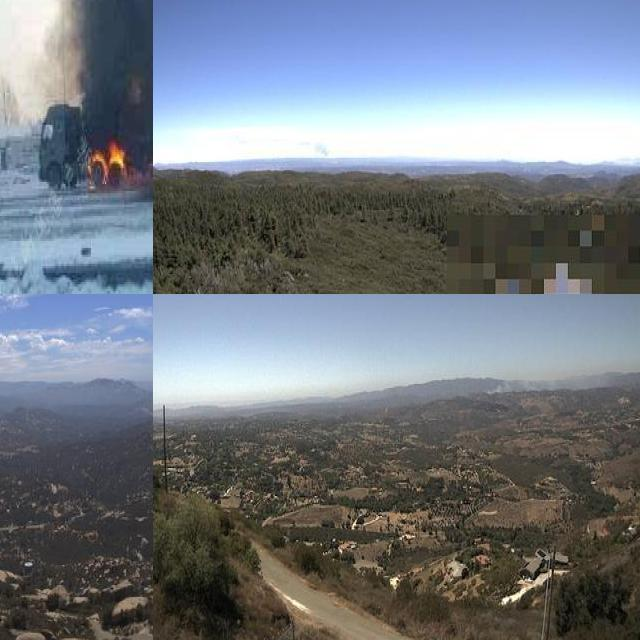fire: (87, 124, 124, 188)
smoke: (3, 0, 153, 118), (482, 363, 620, 397), (296, 130, 334, 162)
